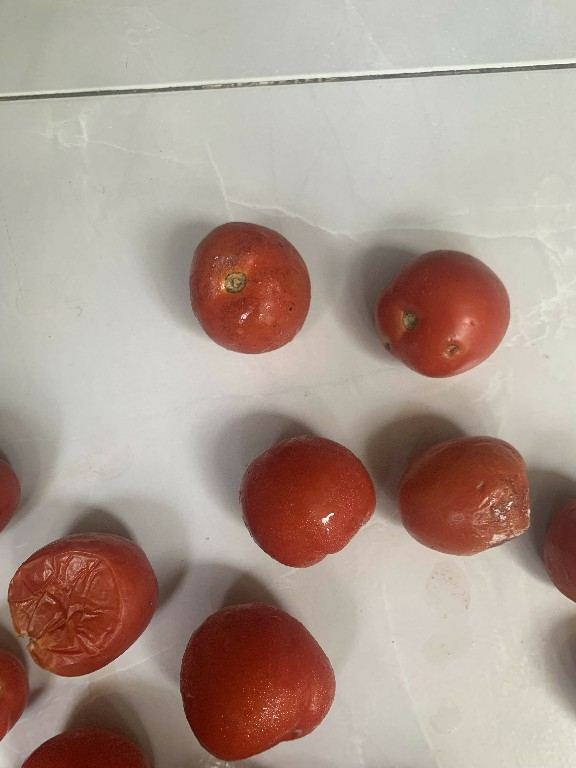NG: (0, 519, 159, 692), (369, 229, 504, 396), (390, 426, 542, 573), (180, 216, 324, 365)
OK: (173, 597, 344, 760), (226, 422, 381, 582)
